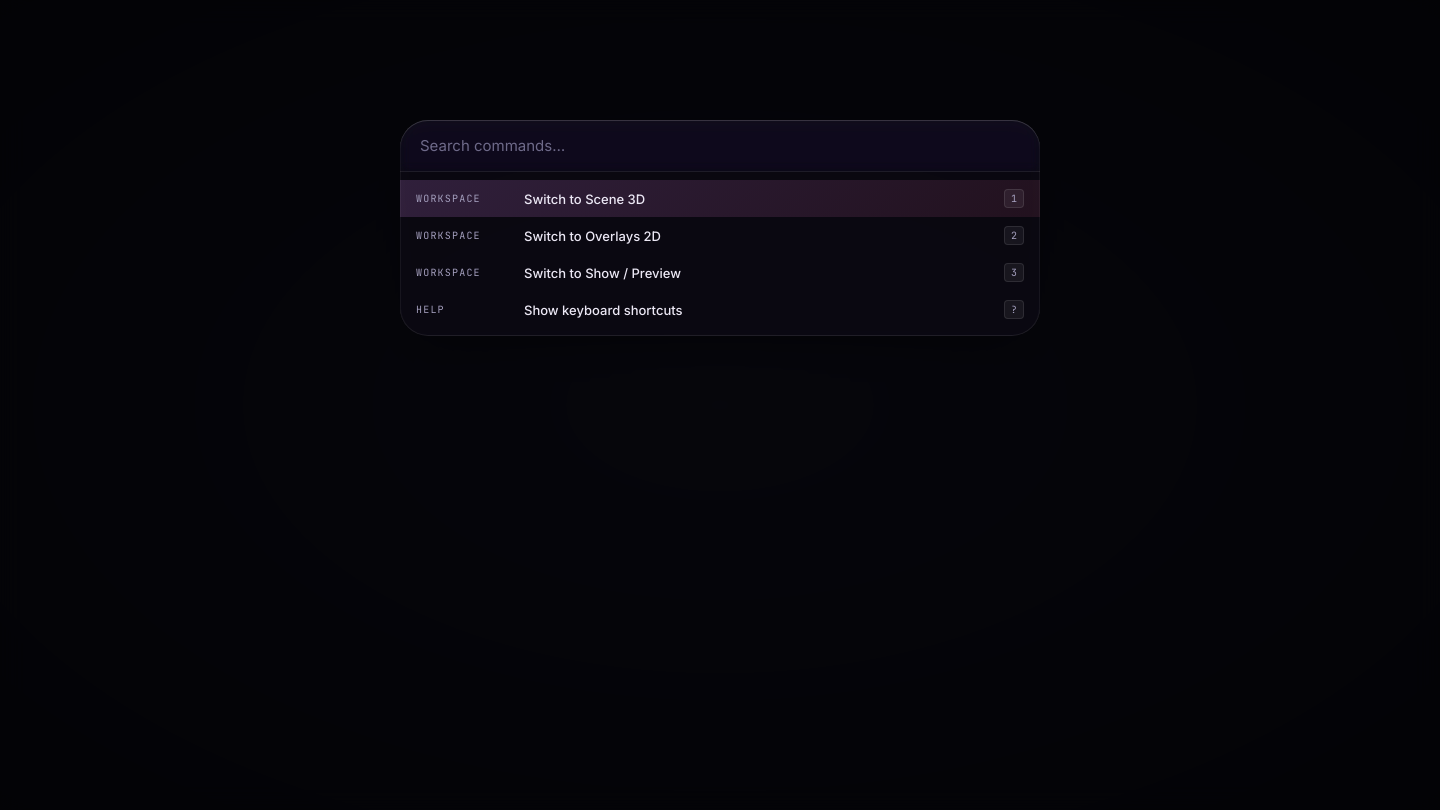
Test case: CommandPalette › filters commands as user types in search
The image size is (1440, 810).
Step 1. Type "overlay" into the dropdown → (720, 146), box [400,120,1040,172]
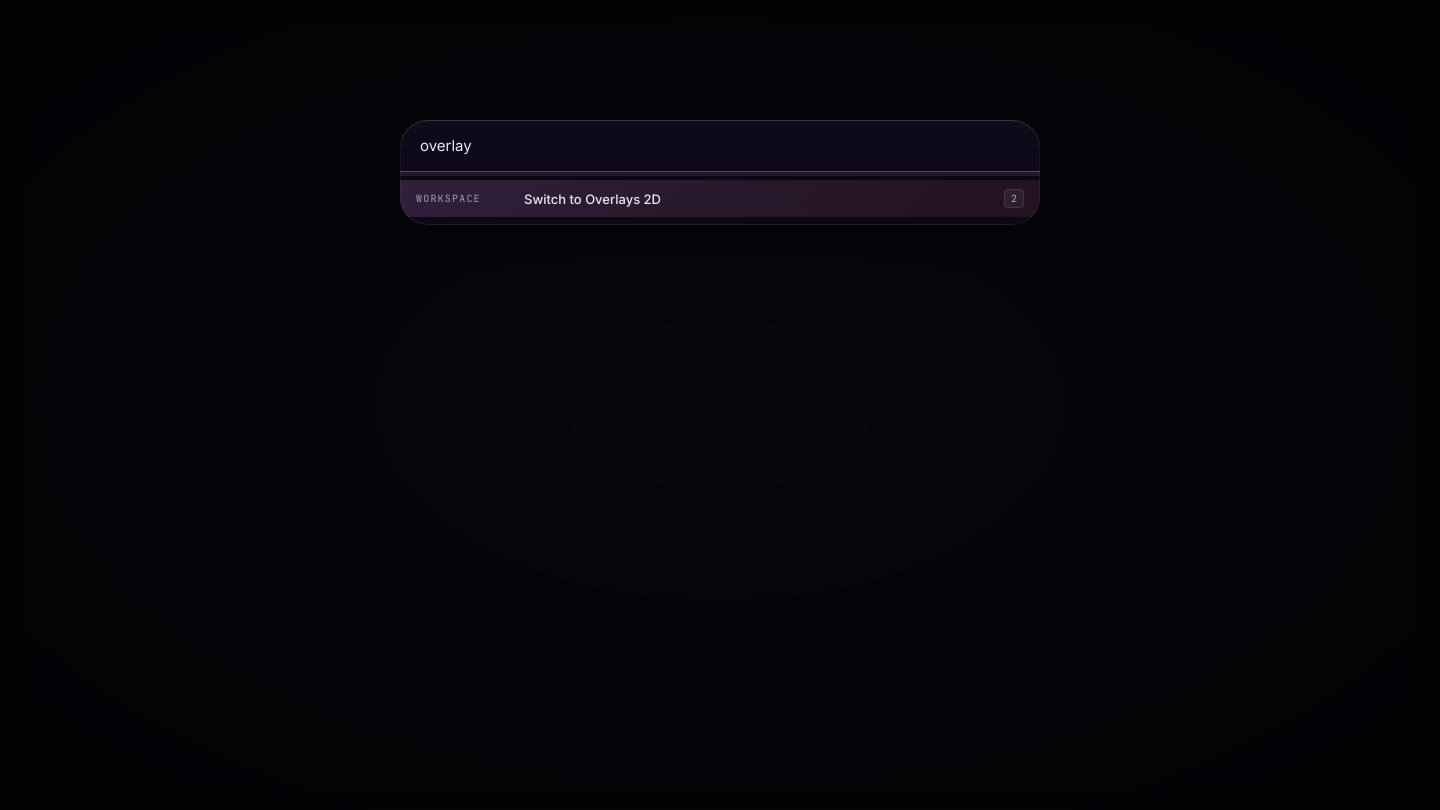
Check: the text "Switch to Overlays 2D" is shown, box [524,190,661,206]
Check: the option "Switch to Scene 3D" is gone
